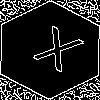X: (25, 25, 85, 82)
